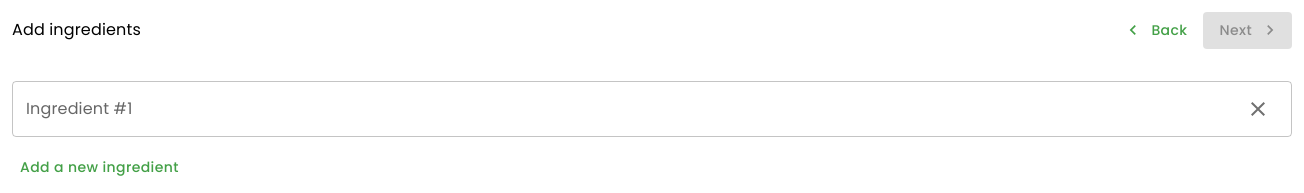
Scenario: Ingredients Component › should enable the Next button if at least one ingredient field is filled
Type "Salt" into the field labelled "Ingredient #1".
click(625, 108); type("Salt")  # box [12, 80, 1238, 136]
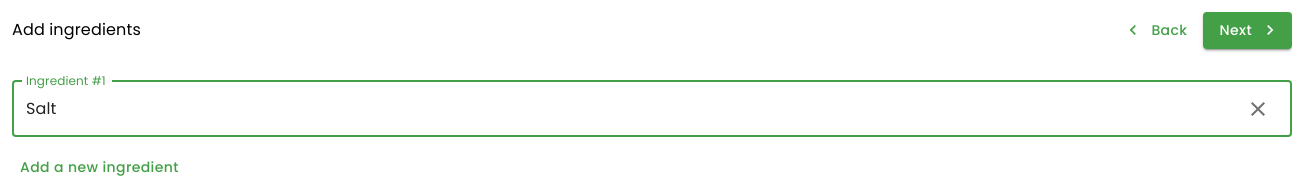
Expected: the button "Next" is enabled, [1204, 12, 1292, 48]
